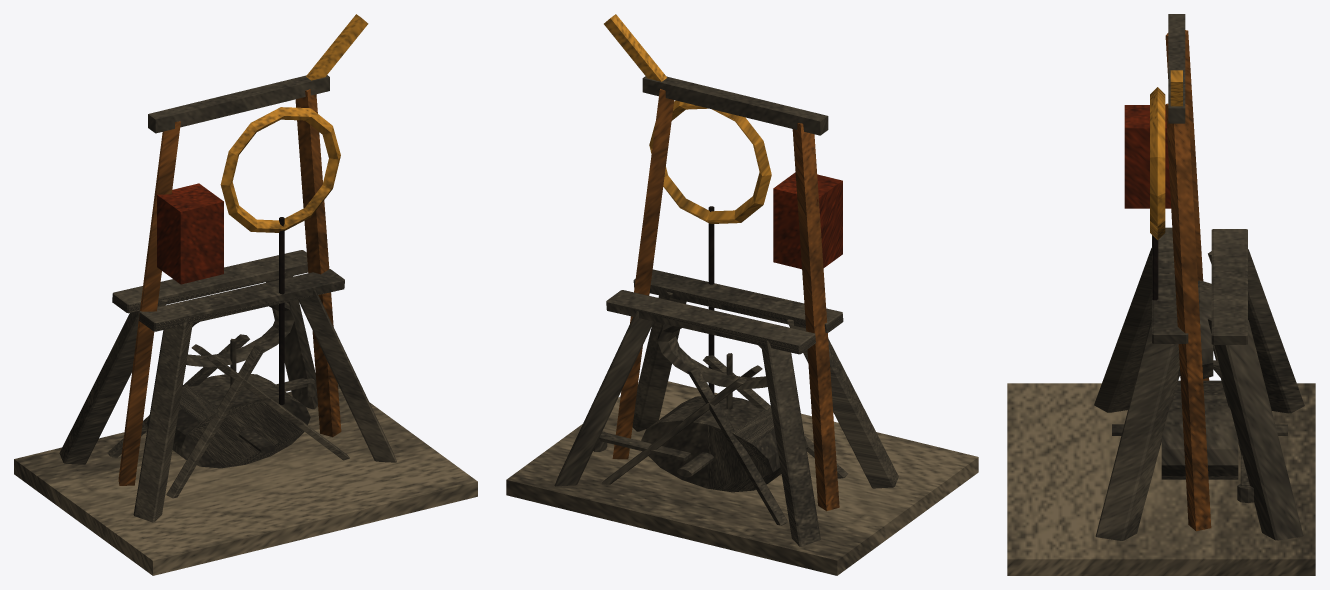
The model's file is east-line-brake-tower.glb.
The picture shows the model from 3 angles, left to right: view 1: azimuth 30°, elevation 25°; view 2: azimuth 150°, elevation 25°; view 3: azimuth 270°, elevation 25°; orthographic projection. The views are drawn at different scales.
Parts seen in each view (by area): view 1: east-line-brake-tower; view 2: east-line-brake-tower; view 3: east-line-brake-tower.
Boxes of the visible parts, x1,y1,x2,y2 form: east-line-brake-tower: (14, 14, 477, 575); east-line-brake-tower: (506, 14, 978, 575); east-line-brake-tower: (1007, 14, 1315, 575).
Bounding box in the file's own units: 5.4 × 6.91 × 4.
1 material, 1 textured.
